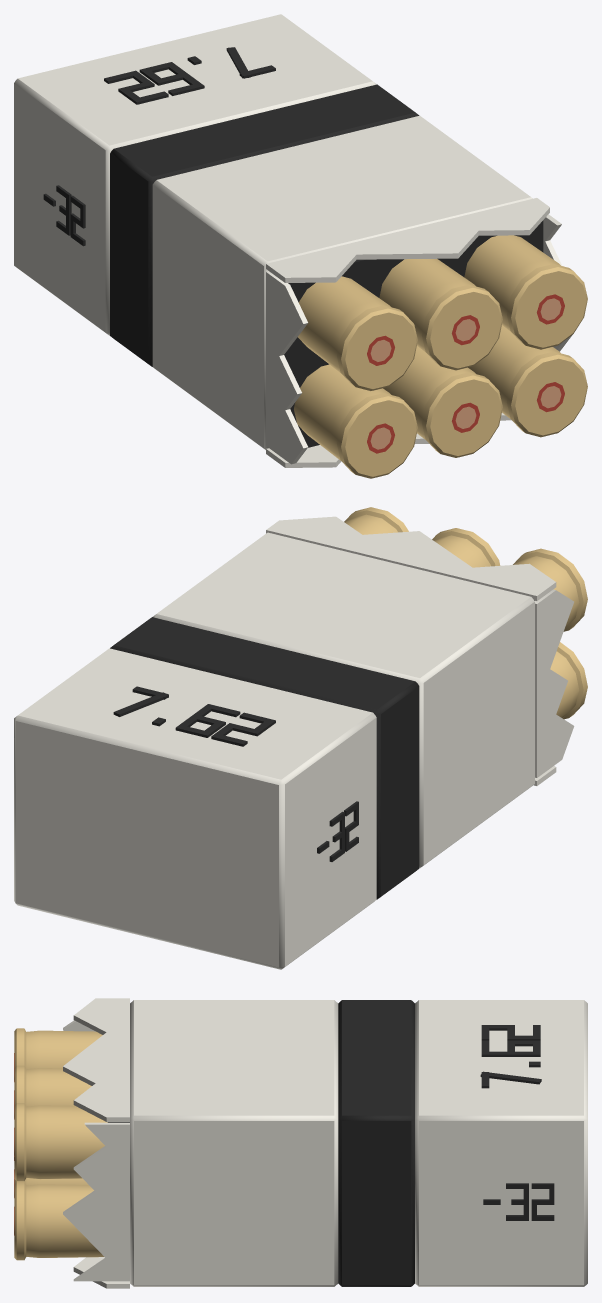
Rendered from ammo_762r_ap.glb.
The picture shows the model from 3 angles, top to bottom: view 1: azimuth 30°, elevation 25°; view 2: azimuth 150°, elevation 25°; view 3: azimuth 270°, elevation 25°; orthographic projection. The views are drawn at different scales.
Visible parts, largest first — view 1: body; view 2: body; view 3: body.
Boxes of the visible parts, bbox=[...] form: body: bbox=[14, 14, 587, 478]; body: bbox=[14, 507, 587, 969]; body: bbox=[14, 998, 587, 1288].
Size of the model in its own units: 0.0448 by 0.0299 by 0.0896.
